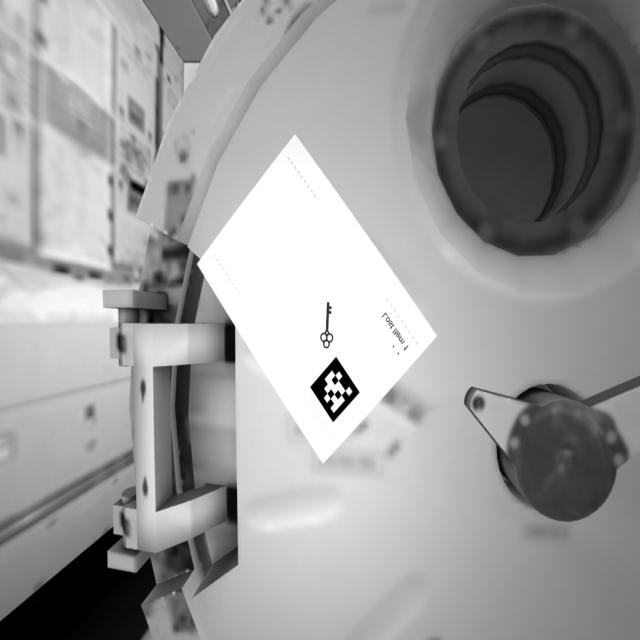key: (319, 299, 340, 351)
